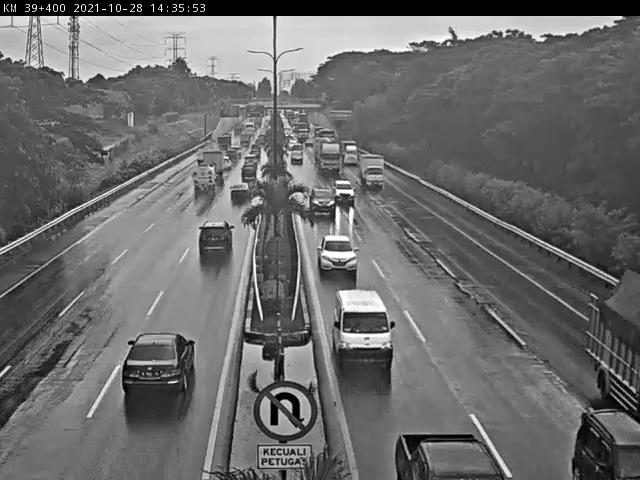big truck: (313, 143, 343, 179)
car: (536, 372, 640, 480), (376, 392, 499, 480), (115, 320, 211, 406), (327, 284, 396, 366), (311, 236, 364, 287), (188, 222, 233, 271), (302, 186, 341, 220), (225, 181, 255, 216), (331, 178, 356, 205), (239, 162, 262, 183), (289, 150, 304, 165)
small truck: (559, 255, 640, 412), (187, 164, 219, 204), (358, 152, 389, 189), (198, 144, 230, 175)
